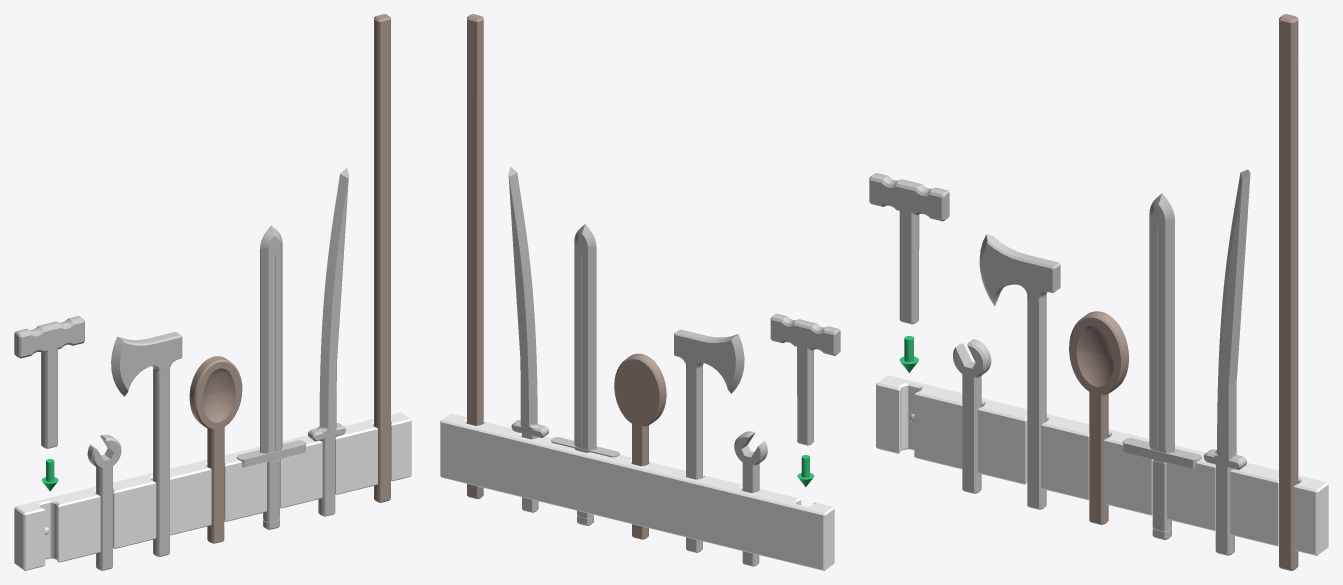
File: tools.glb
3 renders of one model, left to right at view 1: azimuth 30°, elevation 25°; view 2: azimuth 150°, elevation 25°; view 3: azimuth 330°, elevation 25°, orthographic. The views are drawn at different scales.
Parts seen in each view (by area): view 1: Body5, Brown Staff, Gray Sword, Gray Katana, Gray Axe, Brown Spoon, Gray Hammer, Gray Wrench; view 2: Body5, Brown Staff, Gray Sword, Gray Axe, Gray Katana, Brown Spoon, Gray Hammer, Gray Wrench; view 3: Body5, Brown Staff, Gray Sword, Gray Axe, Gray Katana, Brown Spoon, Gray Hammer, Gray Wrench.
Boxes of the visible parts, box(x1,y1,x2,y2) form: Body5: box(14, 412, 411, 570); Brown Staff: box(374, 14, 390, 502); Gray Sword: box(236, 225, 306, 529); Gray Katana: box(308, 168, 348, 516); Gray Axe: box(111, 332, 182, 556); Brown Spoon: box(189, 356, 242, 543); Gray Hammer: box(14, 316, 84, 448); Gray Wrench: box(87, 434, 121, 570); Body5: box(440, 413, 834, 570); Brown Staff: box(467, 14, 483, 499); Gray Sword: box(551, 224, 619, 525); Gray Axe: box(674, 329, 744, 552); Gray Katana: box(508, 166, 549, 512); Brown Spoon: box(614, 353, 666, 539); Gray Hammer: box(770, 313, 840, 445); Gray Wrench: box(734, 431, 767, 566); Body5: box(876, 375, 1328, 555); Brown Staff: box(1279, 14, 1298, 570); Gray Sword: box(1122, 193, 1201, 539); Gray Axe: box(979, 234, 1060, 509); Gray Katana: box(1204, 169, 1250, 555); Brown Spoon: box(1069, 311, 1128, 524); Gray Hammer: box(869, 173, 949, 324); Gray Wrench: box(953, 339, 991, 493).
Size of the model in its own units: 106 by 125 by 6.08.
